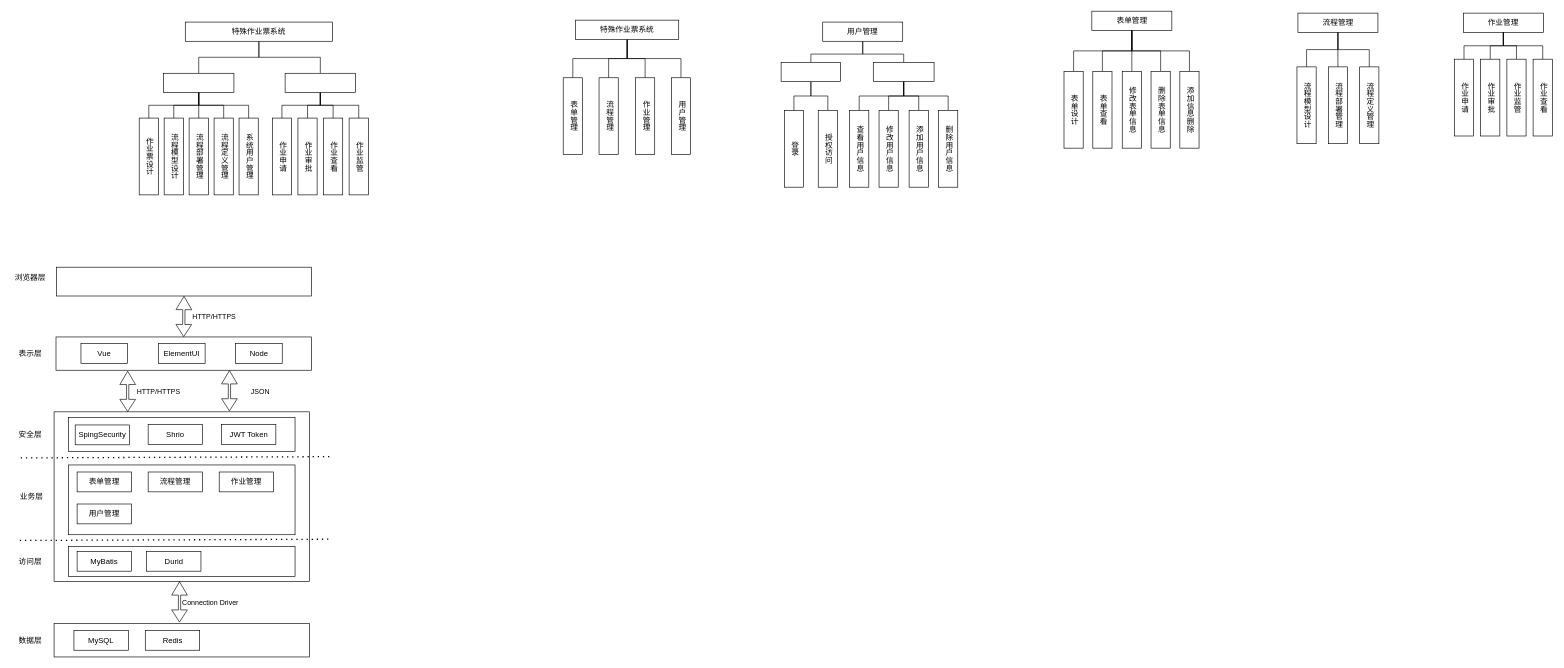
Some shapes in this 1564 by 668 pixel diagram are drawn without their labels. The centre of each missing label's shape, as x and y in pixels:
Edge、Chrome、FireFox……: the point at 183,281
信息维护: the point at 903,72
普通用户: the point at 320,82
管理员: the point at 198,82
访问控制: the point at 810,72
